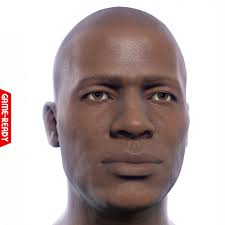black_male: (56, 8, 180, 206)
